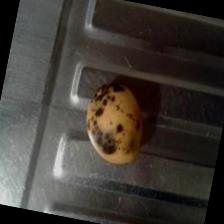Mango Overripe: (76, 77, 156, 170)
